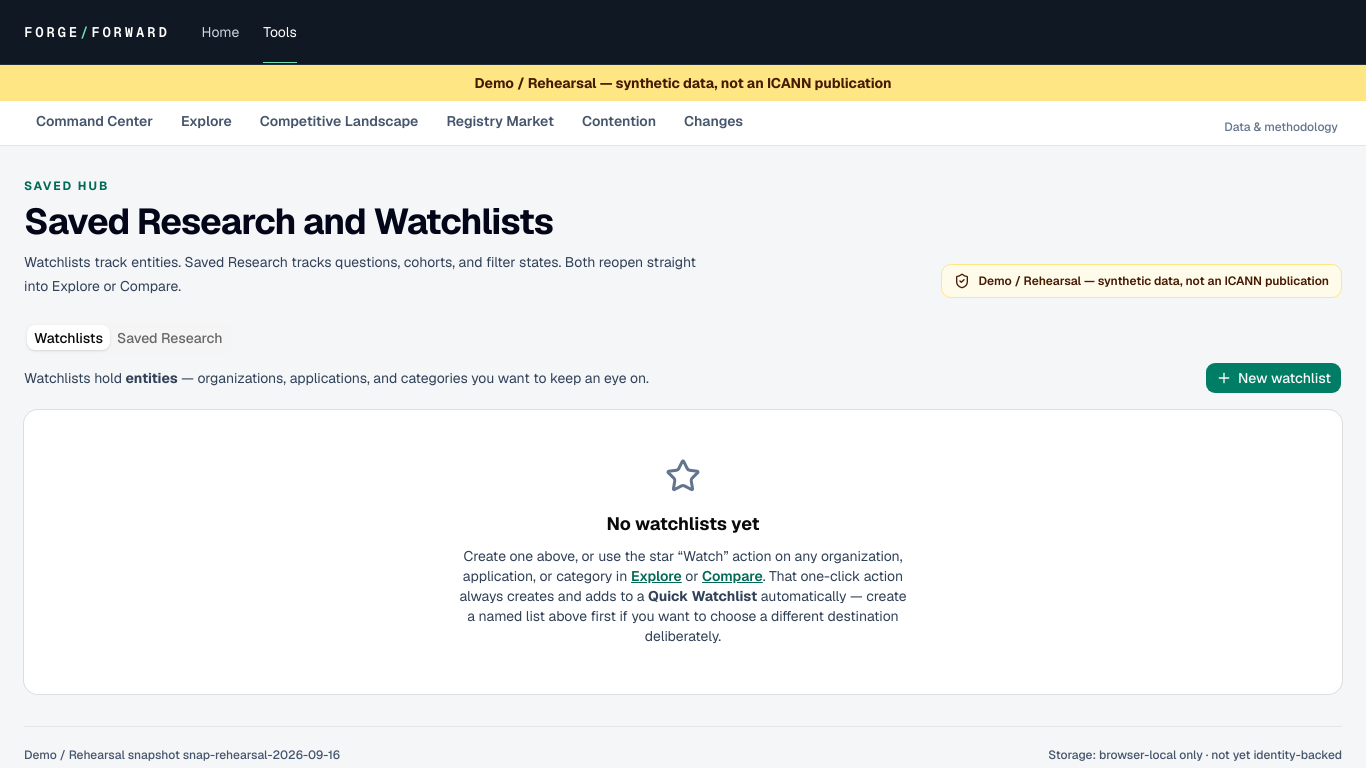
Test: Saved hub — changes since last visit › discloses that the comparison is against the recorded fixture snapshot, not live monitoring
The width and height of the screenshot is (1366, 768).
Click the button "New watchlist": (1274, 378) [1205,362,1342,394]
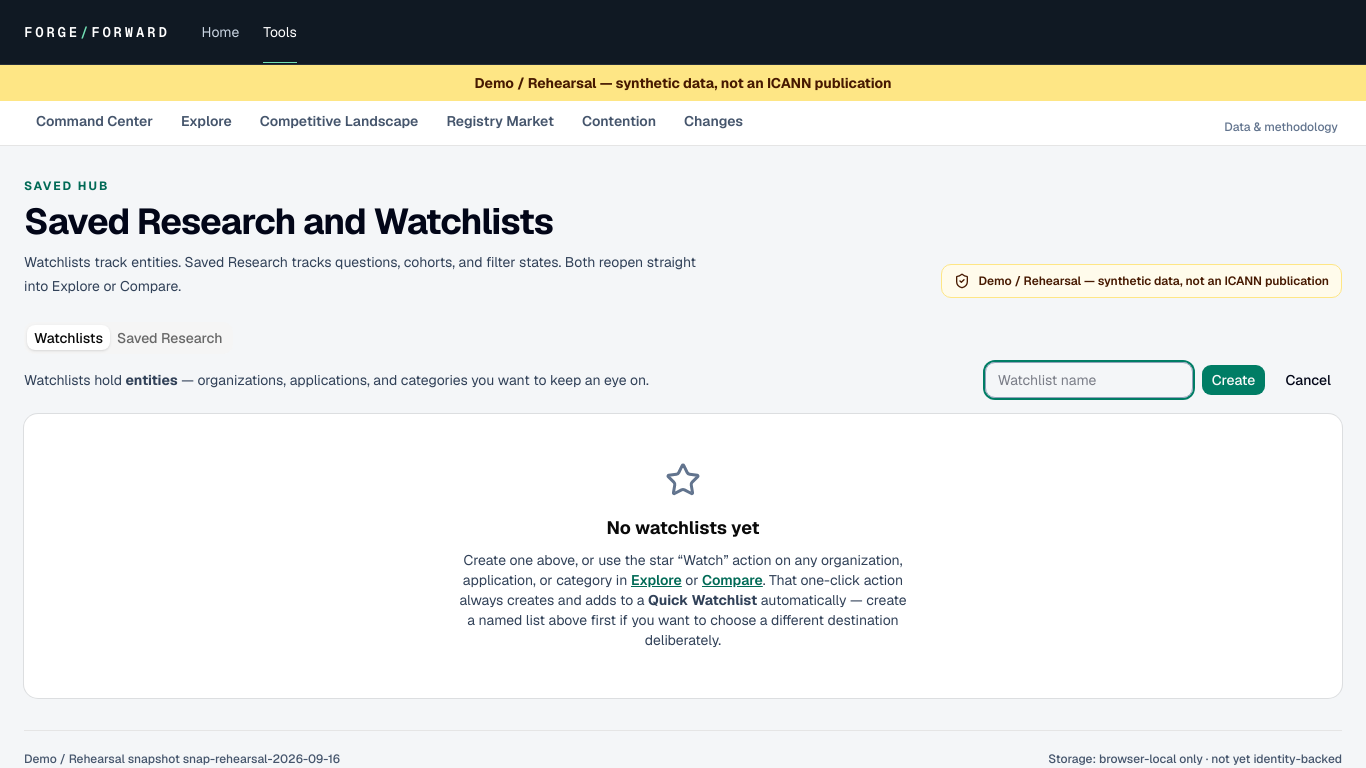
In the field labelled "Watchlist name": (1089, 380) [985,362,1193,398], type "Tracked"
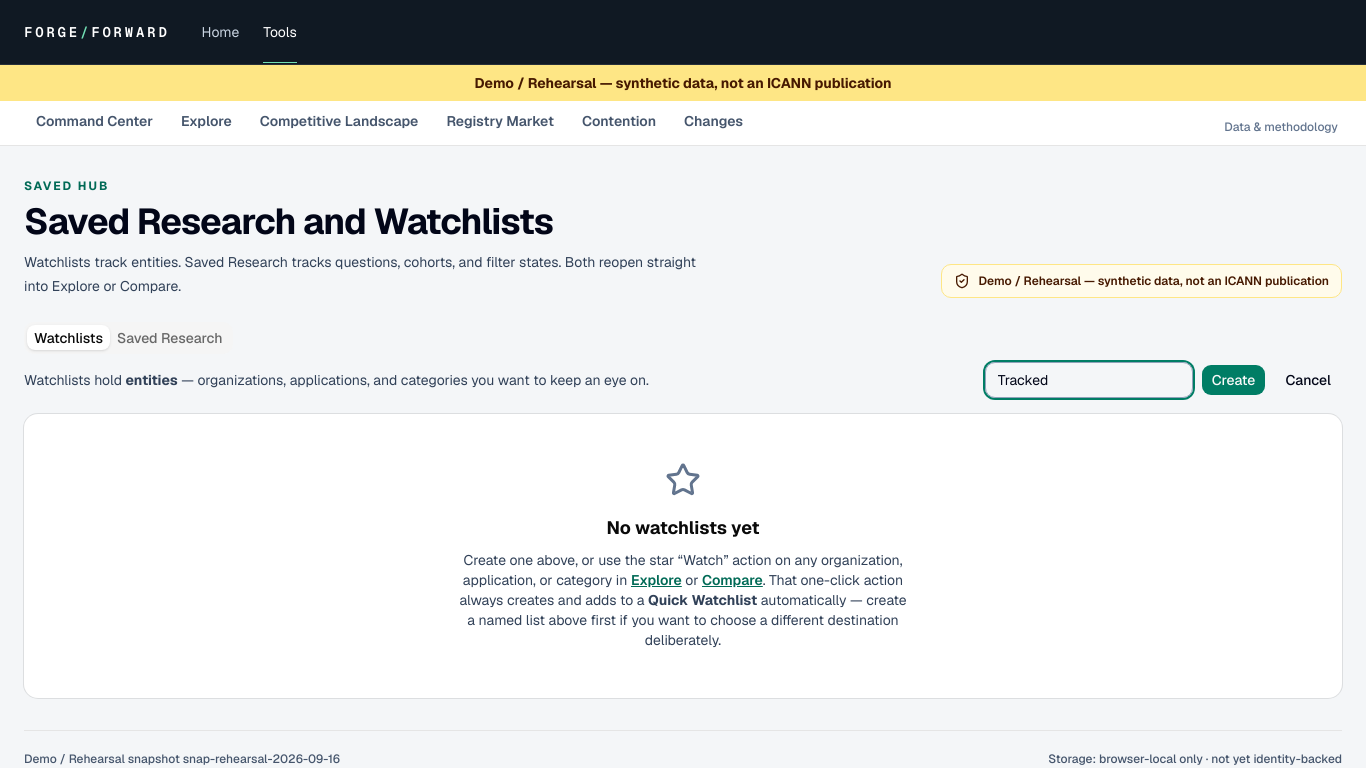
Click the button "Create": (1234, 380) [1201,364,1266,396]
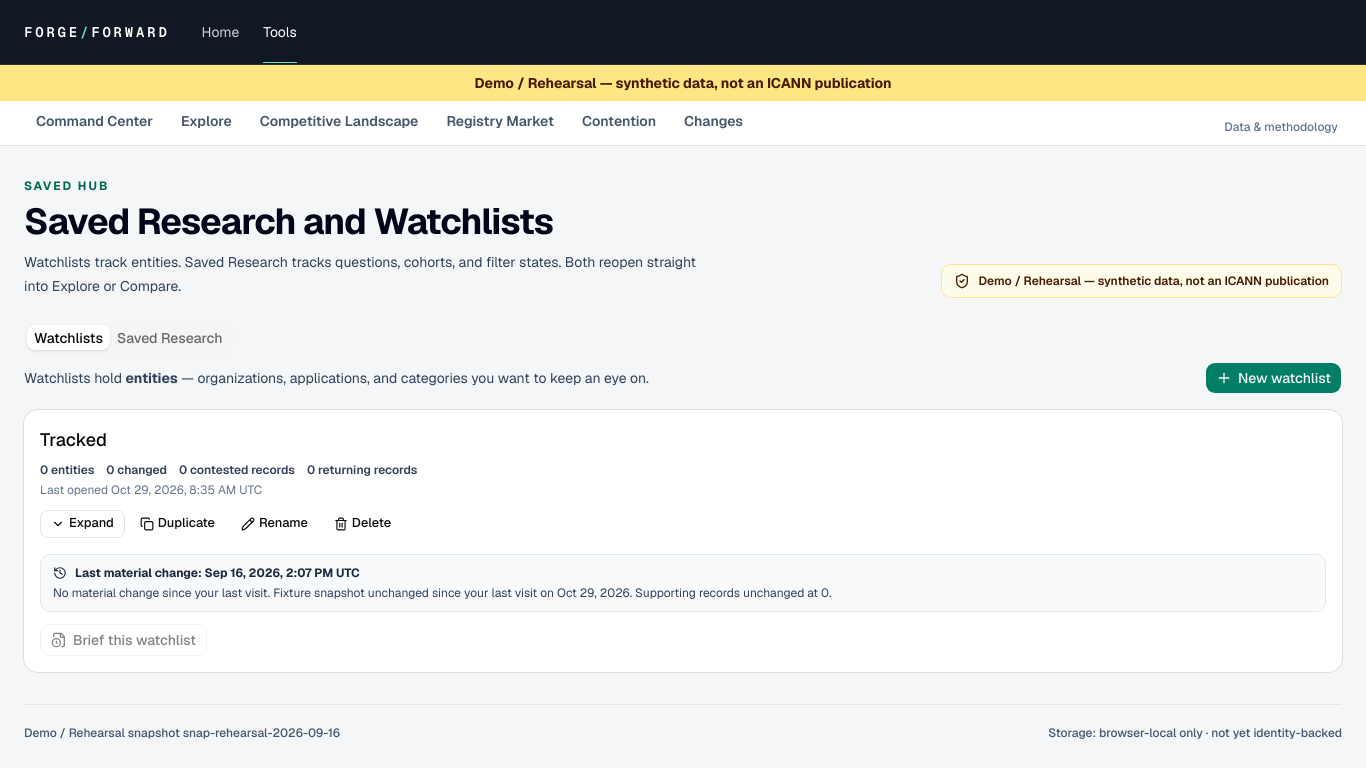
Check: the text "No material change since your last visit" is shown, box [53,584,268,600]
Check: the text "Fixture snapshot unchanged since your last visit" is shown, box [273,584,831,600]
